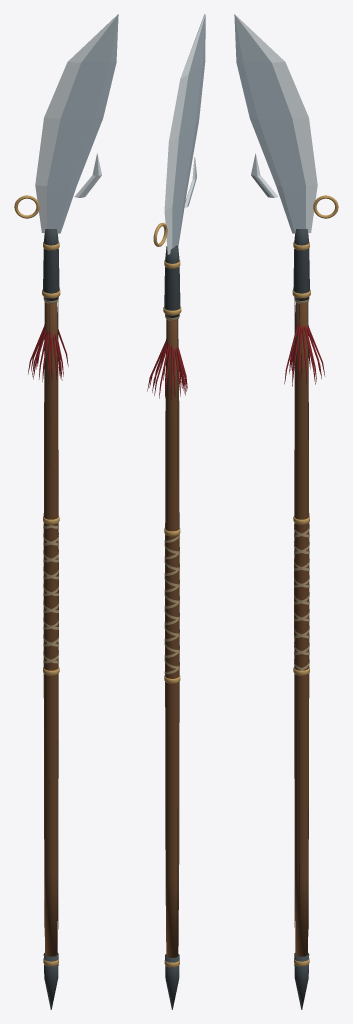
Rendered from weapon_ming_guandao.glb.
The picture shows the model from 3 angles, left to right: view 1: azimuth 90°, elevation 25°; view 2: azimuth 150°, elevation 25°; view 3: azimuth 270°, elevation 25°; orthographic projection. The views are drawn at different scales.
Parts seen in each view (by area): view 1: Authored_ming_guandao; view 2: Authored_ming_guandao; view 3: Authored_ming_guandao.
Boxes of the visible parts, <box> form: Authored_ming_guandao: <box>14,14,118,1009</box>; Authored_ming_guandao: <box>147,14,205,1009</box>; Authored_ming_guandao: <box>234,14,338,1009</box>.
Size of the model in its own units: 0.1007 by 2.5 by 0.2375.
